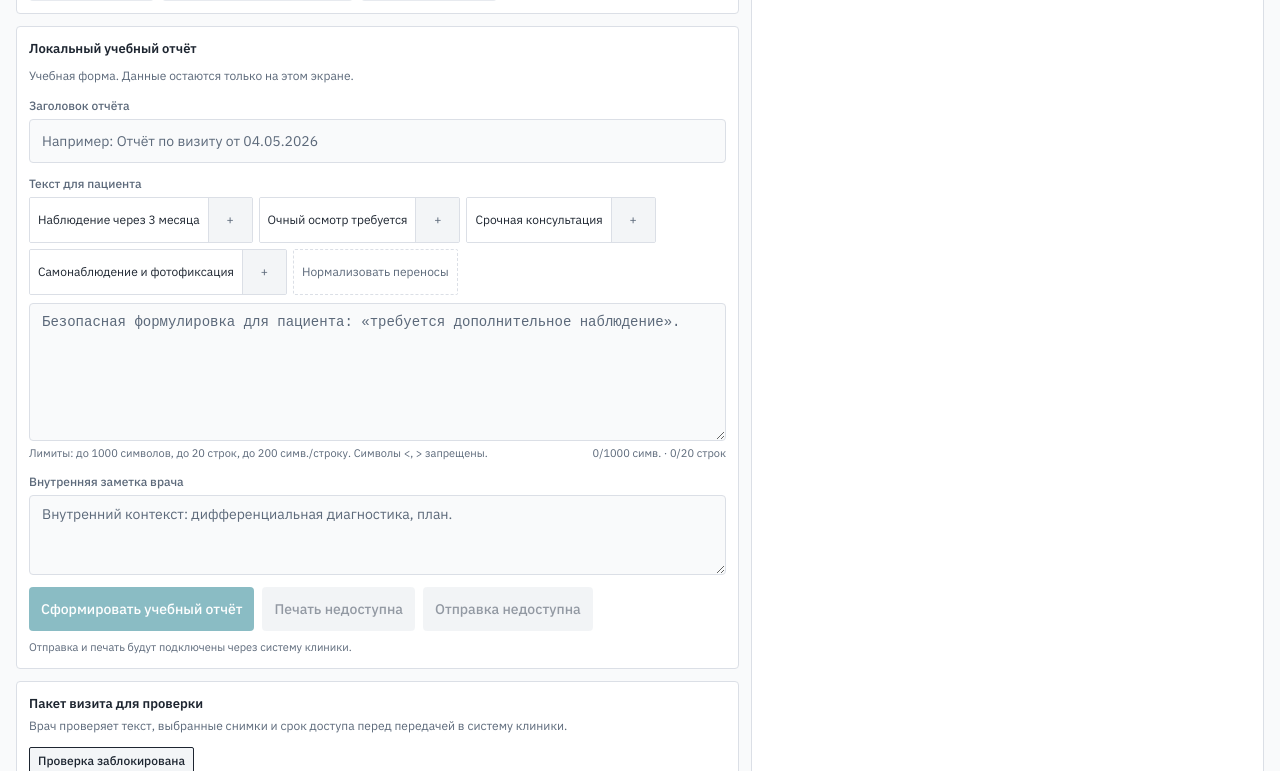
VisitReportTab · patient text editor › shows validation error for forbidden < character and disables Save
(page scrolled)
Replace the text in the text box labelled "Текст для пациента" with "плохо <b>тег": (378, 372) [29, 302, 726, 440]
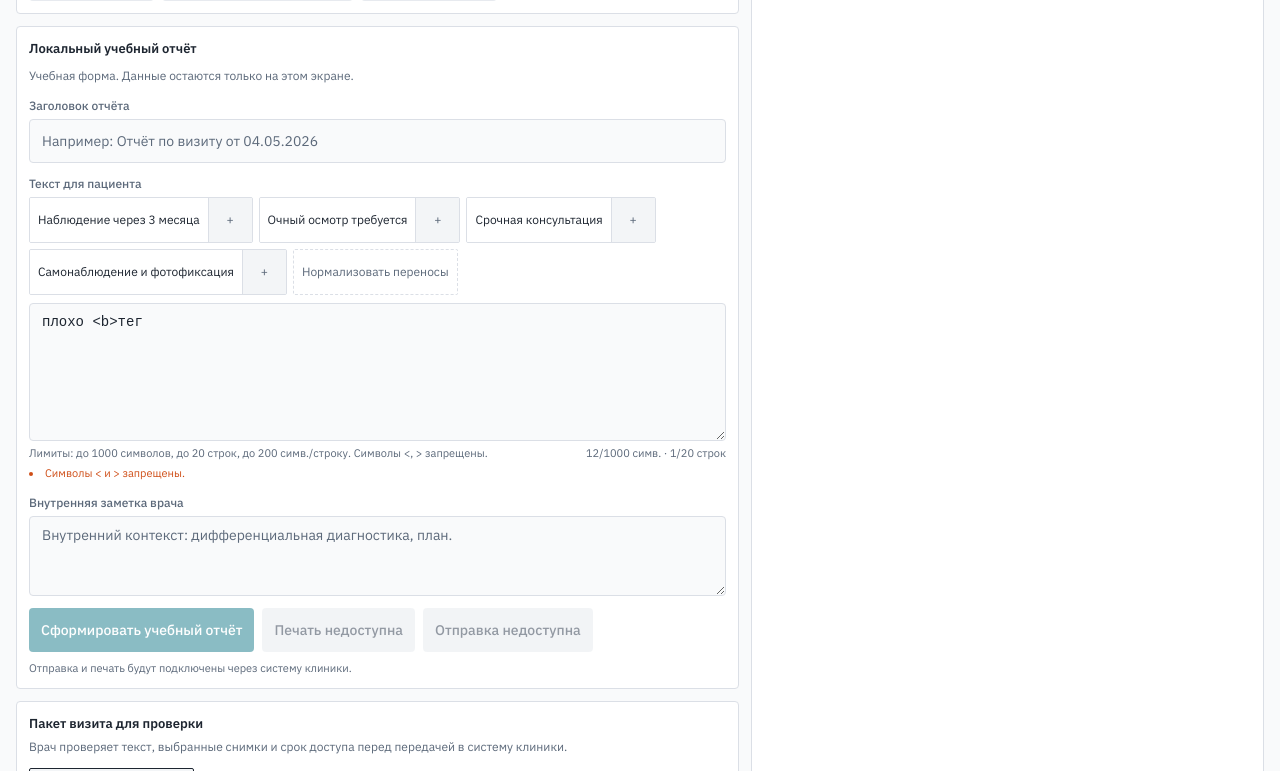
Check: the button "Сформировать учебный отчёт" is disabled, box [29, 608, 254, 652]
Check: the list item "Символы < и > запрещены." is shown, box [45, 466, 185, 480]
